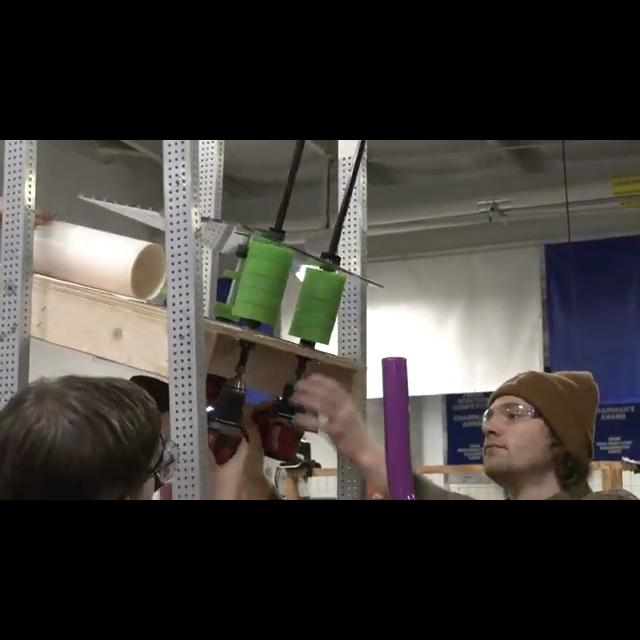CORAL: (31, 217, 166, 301)
